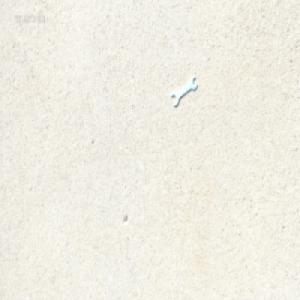Wrench: (172, 75, 197, 106)
